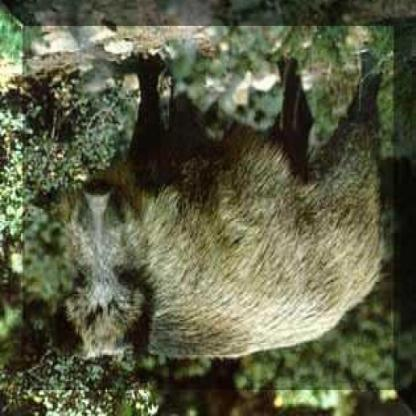boar: (32, 9, 415, 359)
